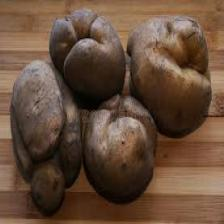Damaged potato: (121, 2, 213, 140), (6, 57, 82, 216), (80, 85, 161, 206), (50, 3, 127, 102)
